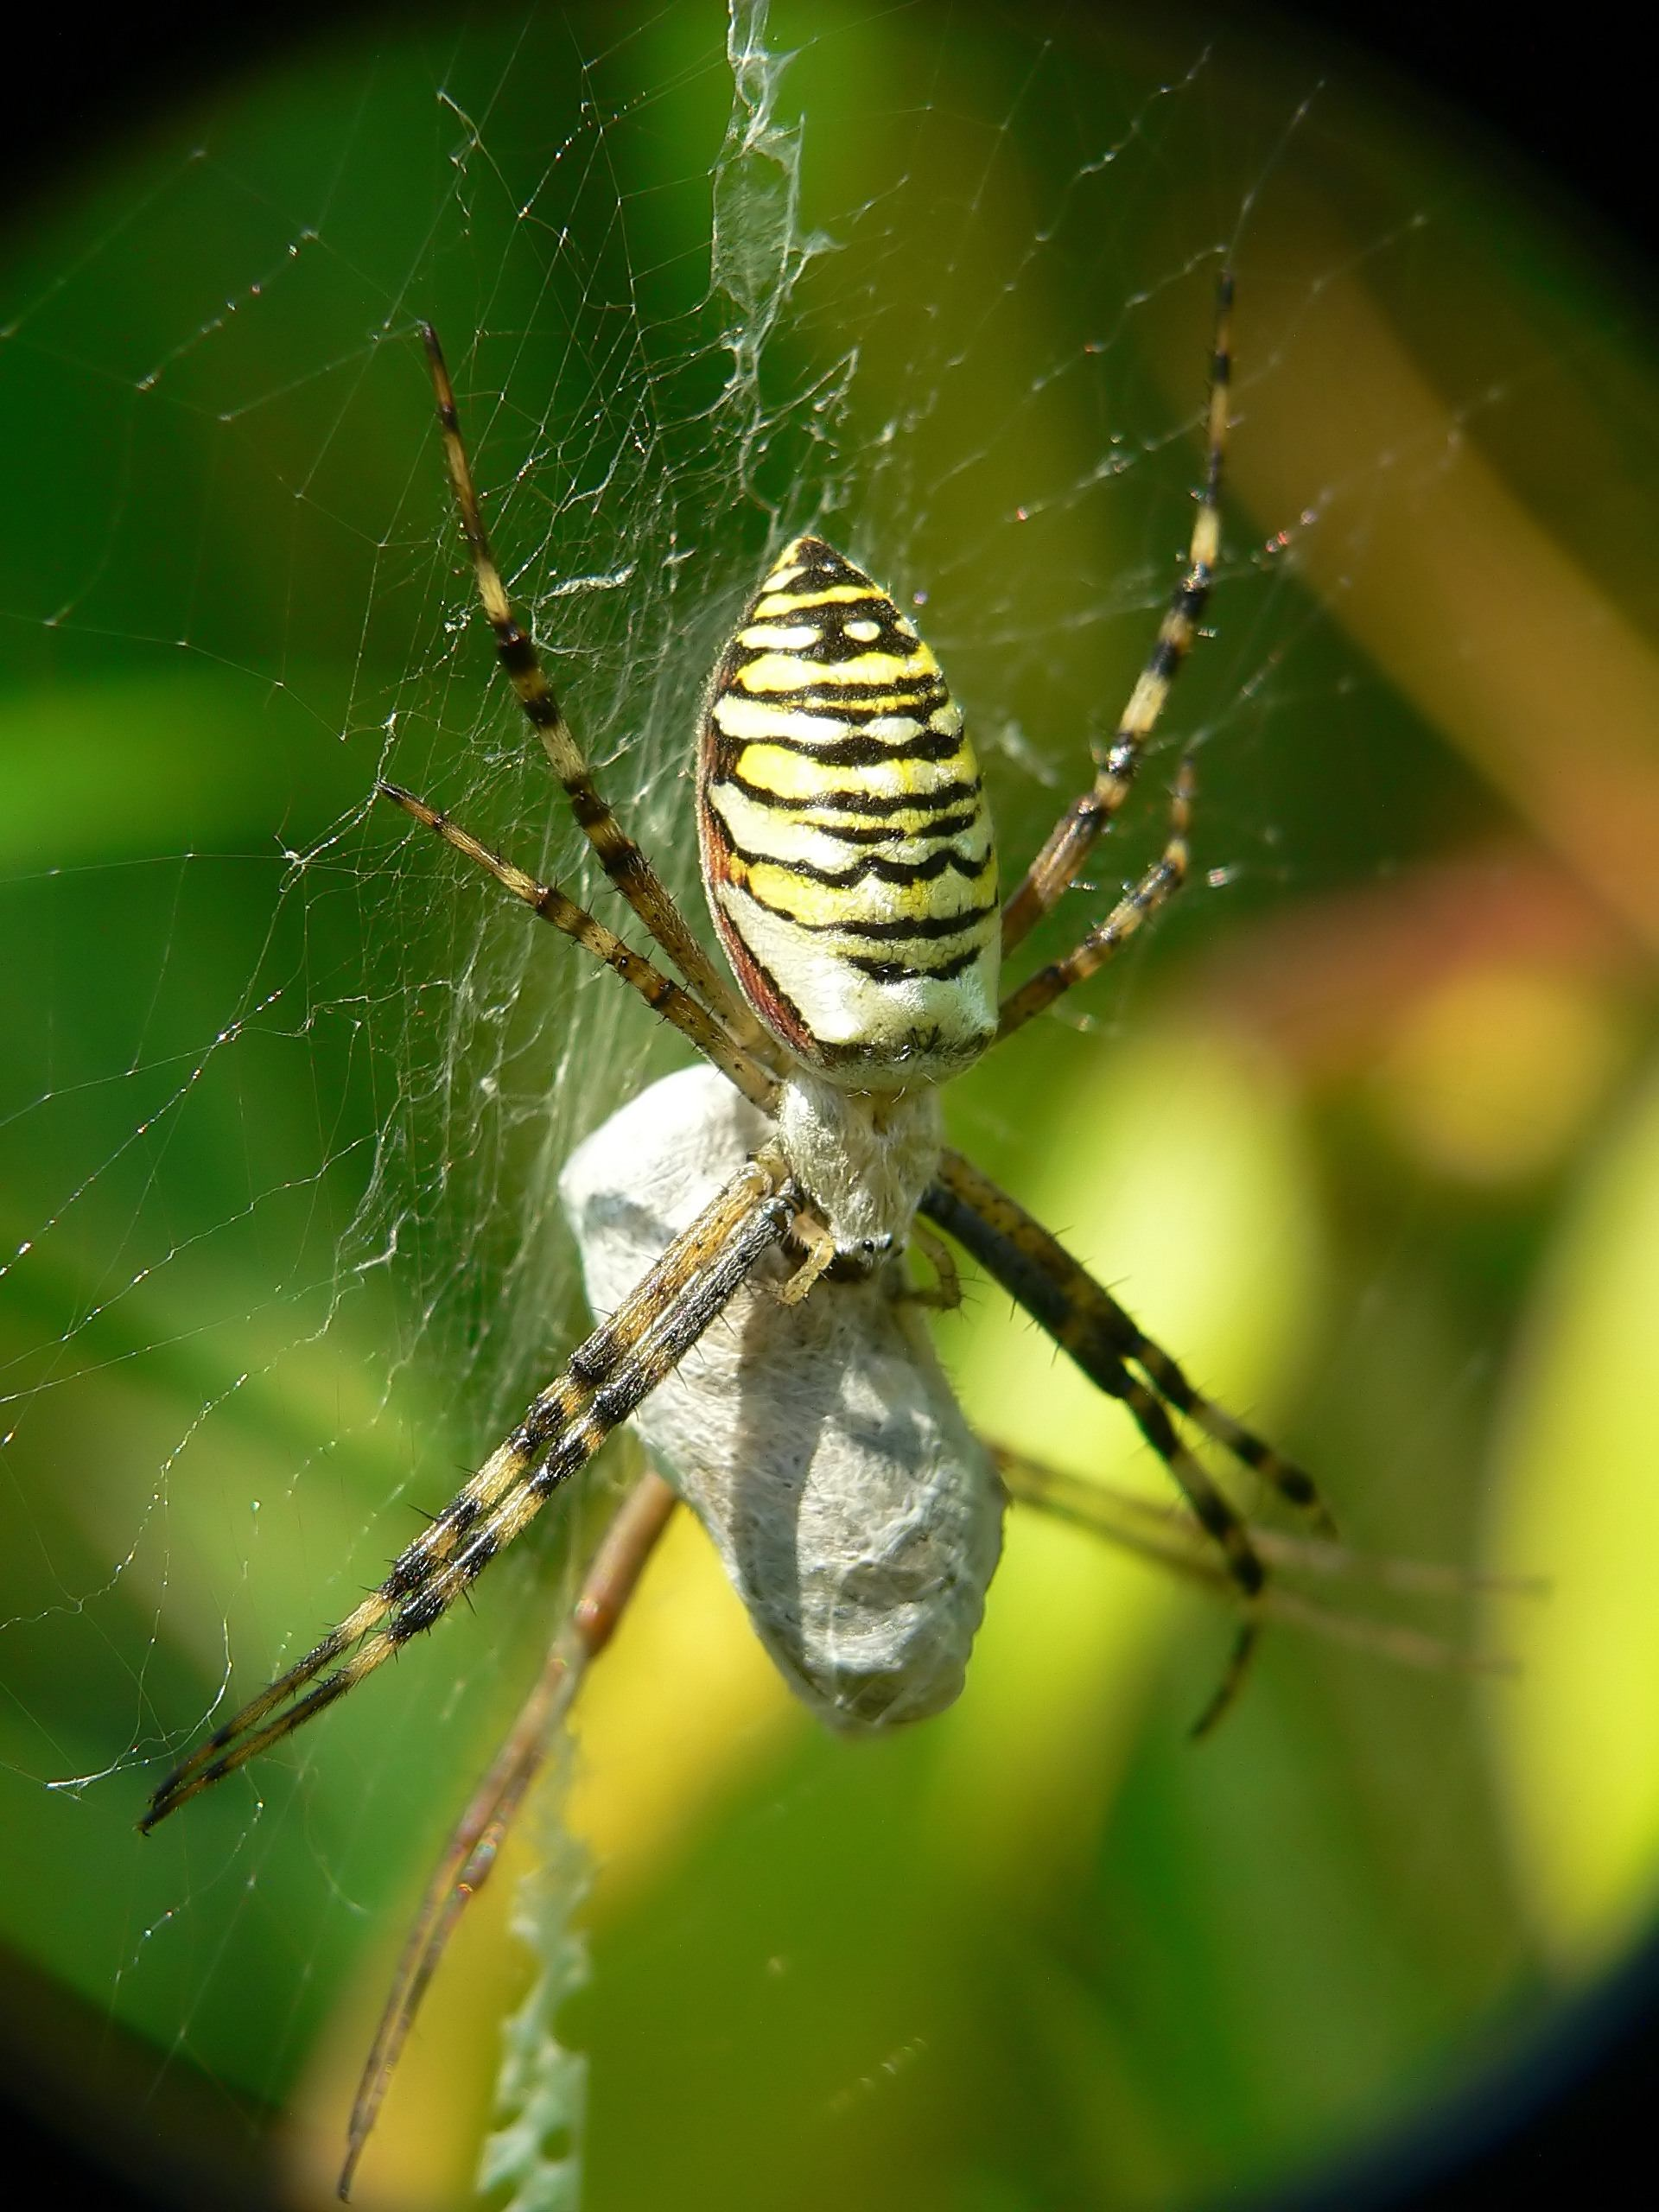spider: (75, 162, 1466, 1921)
